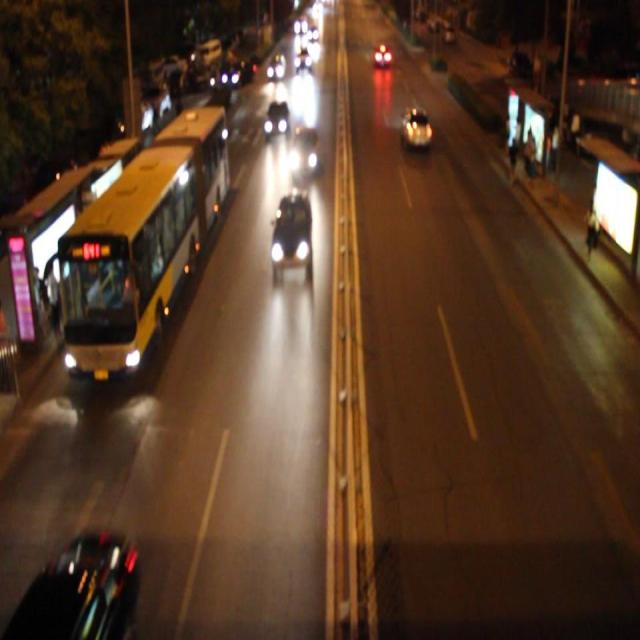car: (19, 531, 138, 640), (269, 192, 312, 273), (288, 125, 321, 180), (401, 103, 432, 151), (263, 97, 291, 139), (265, 52, 286, 82)
van: (54, 102, 219, 376)
